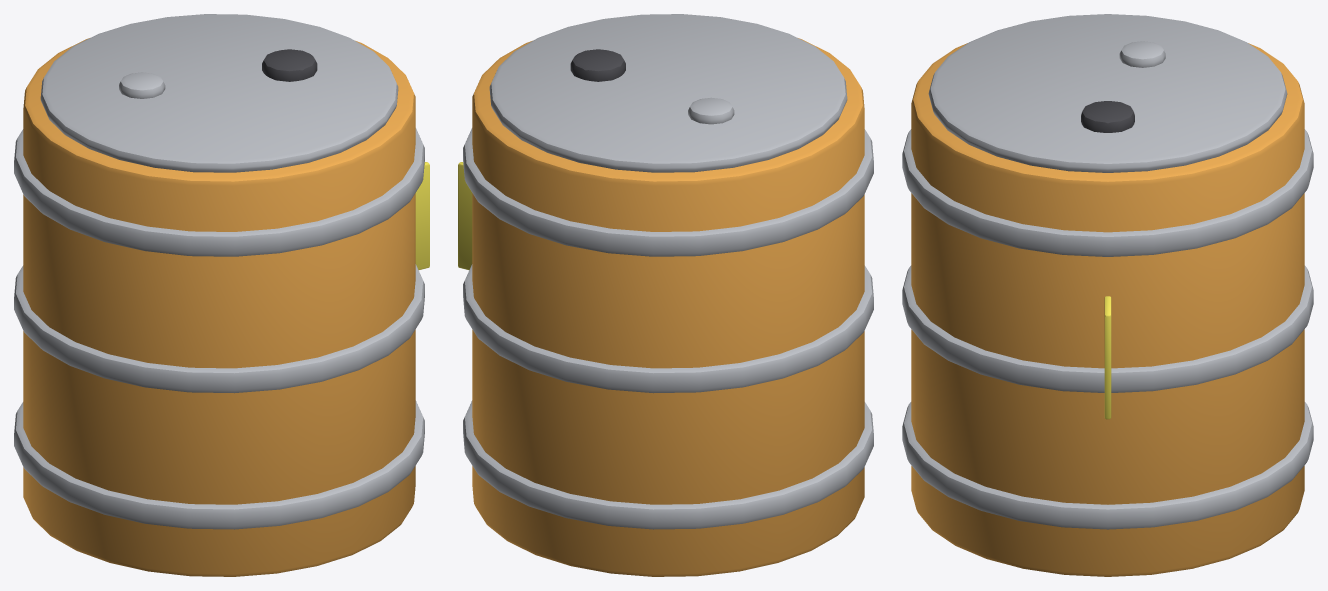
The model's file is prop_barrel.glb.
3 renders of one model, left to right at view 1: azimuth 30°, elevation 25°; view 2: azimuth 150°, elevation 25°; view 3: azimuth 270°, elevation 25°, orthographic.
Visible parts, largest first — view 1: barrel; view 2: barrel; view 3: barrel.
Part boxes in pixels (box(x1,y1,x2,y2)): barrel: box(14, 14, 429, 576); barrel: box(458, 14, 873, 576); barrel: box(902, 14, 1313, 576).
Bounding box in the file's own units: 38.7 × 40.1 × 35.6.
